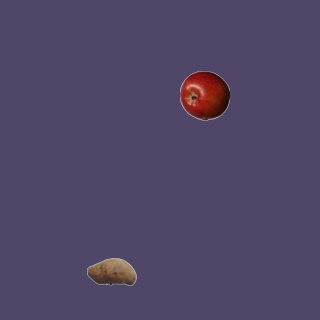Apple Braeburn: (179, 70, 229, 120)
Potato Sweet: (86, 246, 136, 296)
